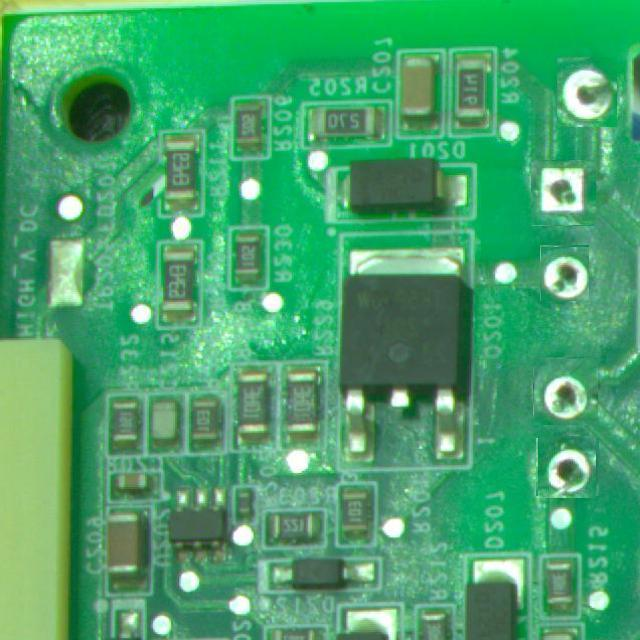lack_of_part: (533, 358, 598, 426), (554, 60, 620, 125), (530, 161, 596, 225), (537, 437, 598, 497), (540, 246, 589, 302)
